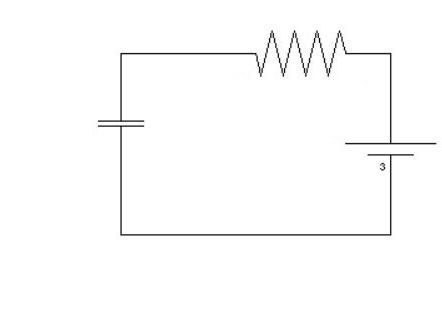resistor: (232, 21, 356, 92)
